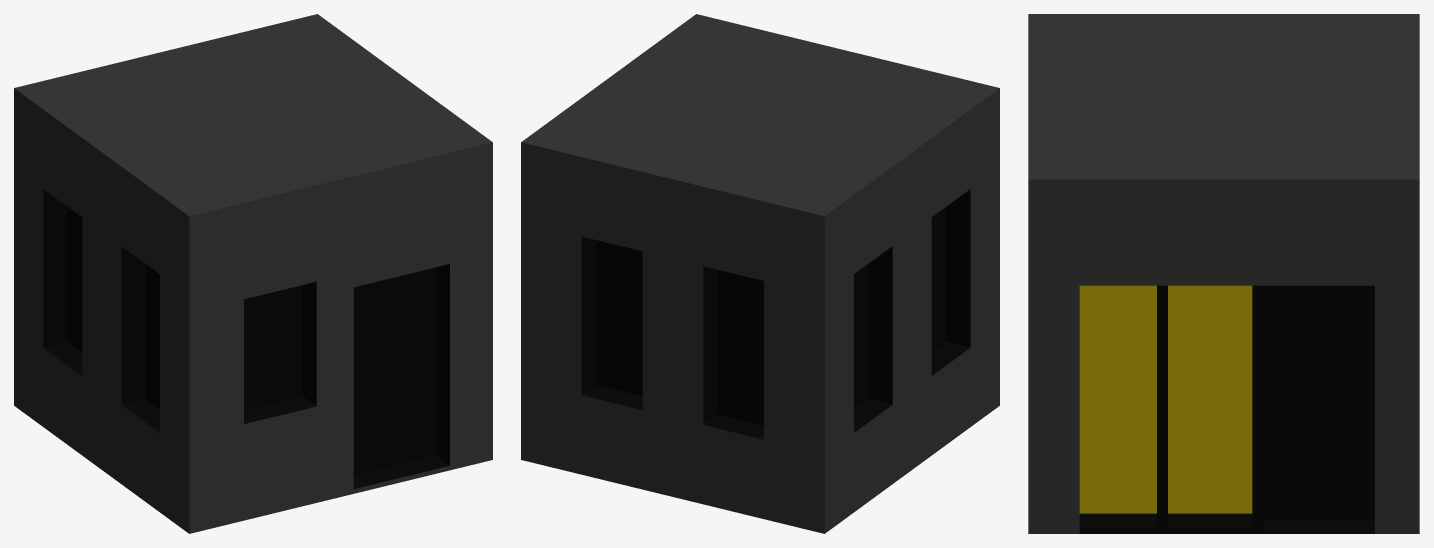
3 renders of one model, left to right at view 1: azimuth 30°, elevation 25°; view 2: azimuth 150°, elevation 25°; view 3: azimuth 270°, elevation 25°, orthographic. The views are drawn at different scales.
Parts seen in each view (by area): view 1: Cube.001; view 2: Cube.001; view 3: Cube.001.
Part boxes in pixels (<box>): Cube.001: <box>14,14,492,533</box>; Cube.001: <box>521,14,999,533</box>; Cube.001: <box>1028,14,1419,533</box>.
Bounding box in the file's own units: 100 × 100 × 100.
